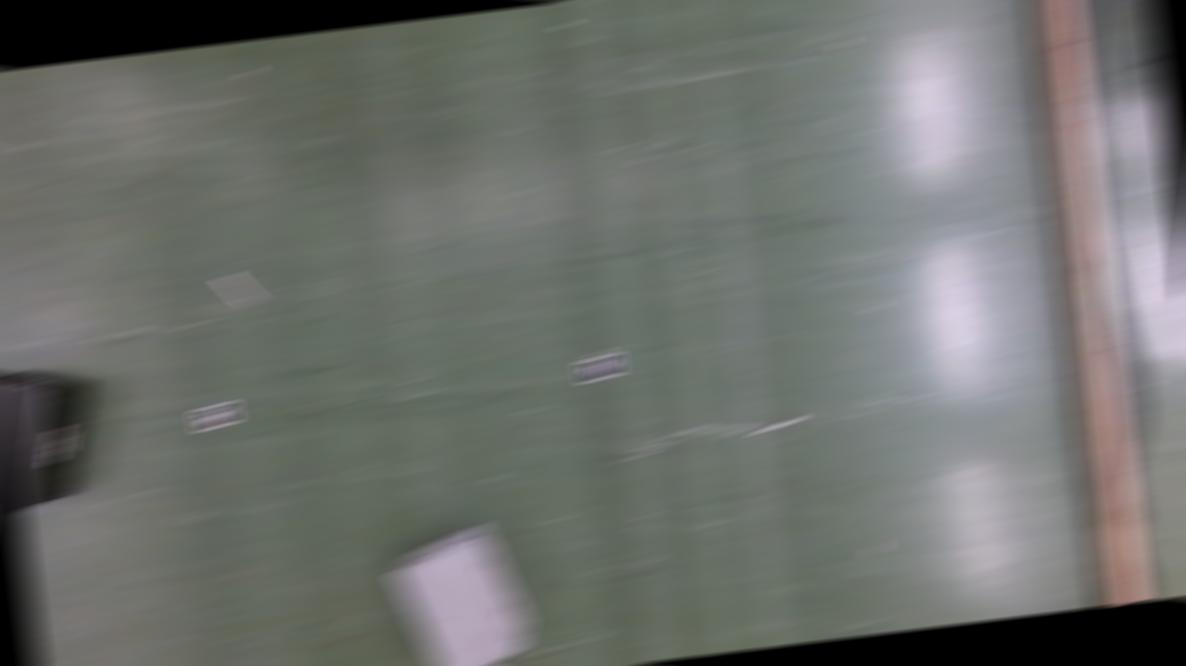probes: (221, 270, 260, 304), (756, 415, 800, 430)
rako: (386, 518, 534, 665), (0, 362, 105, 507)
